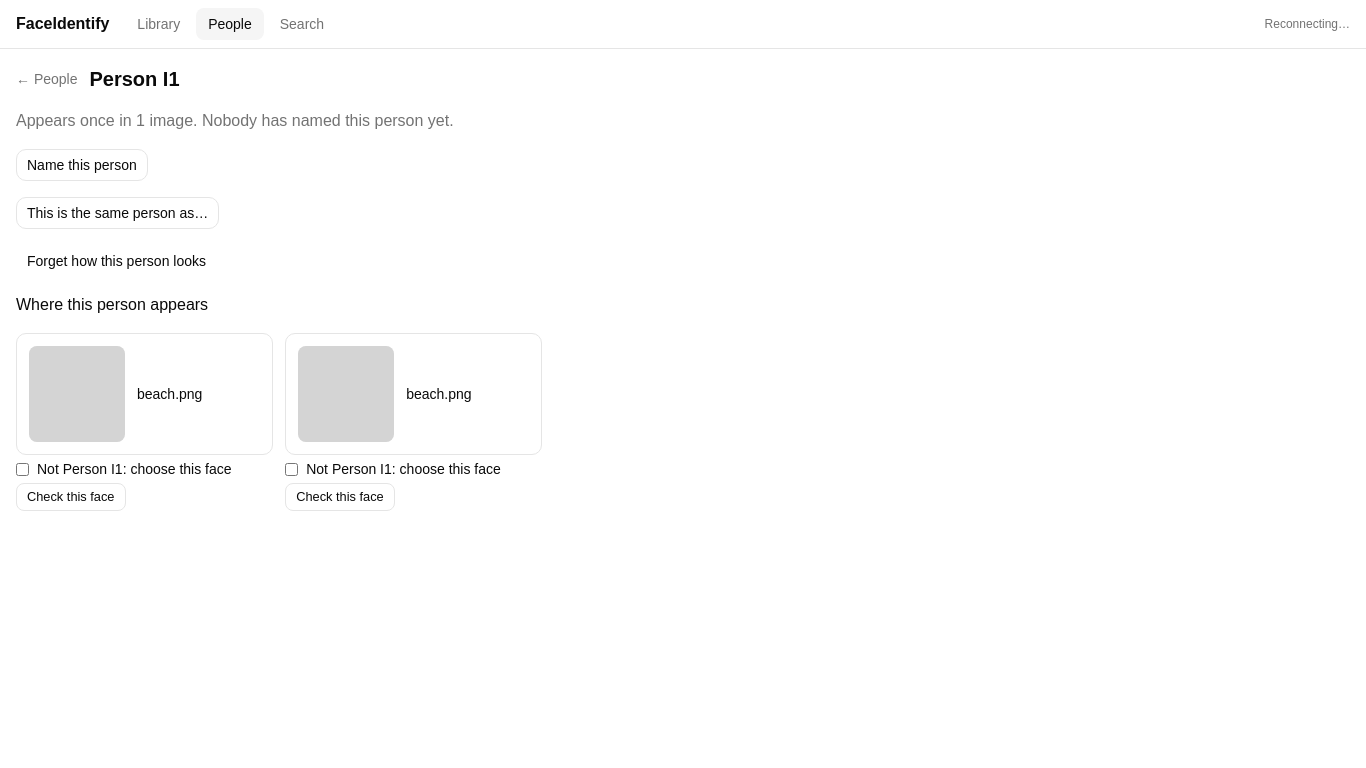
merging a person into another › cannot merge until someone is chosen, and can be cancelled
This screenshot has width=1366, height=768.
Click the button "This is the same person as…" at point(118, 213), box [16, 197, 219, 229]
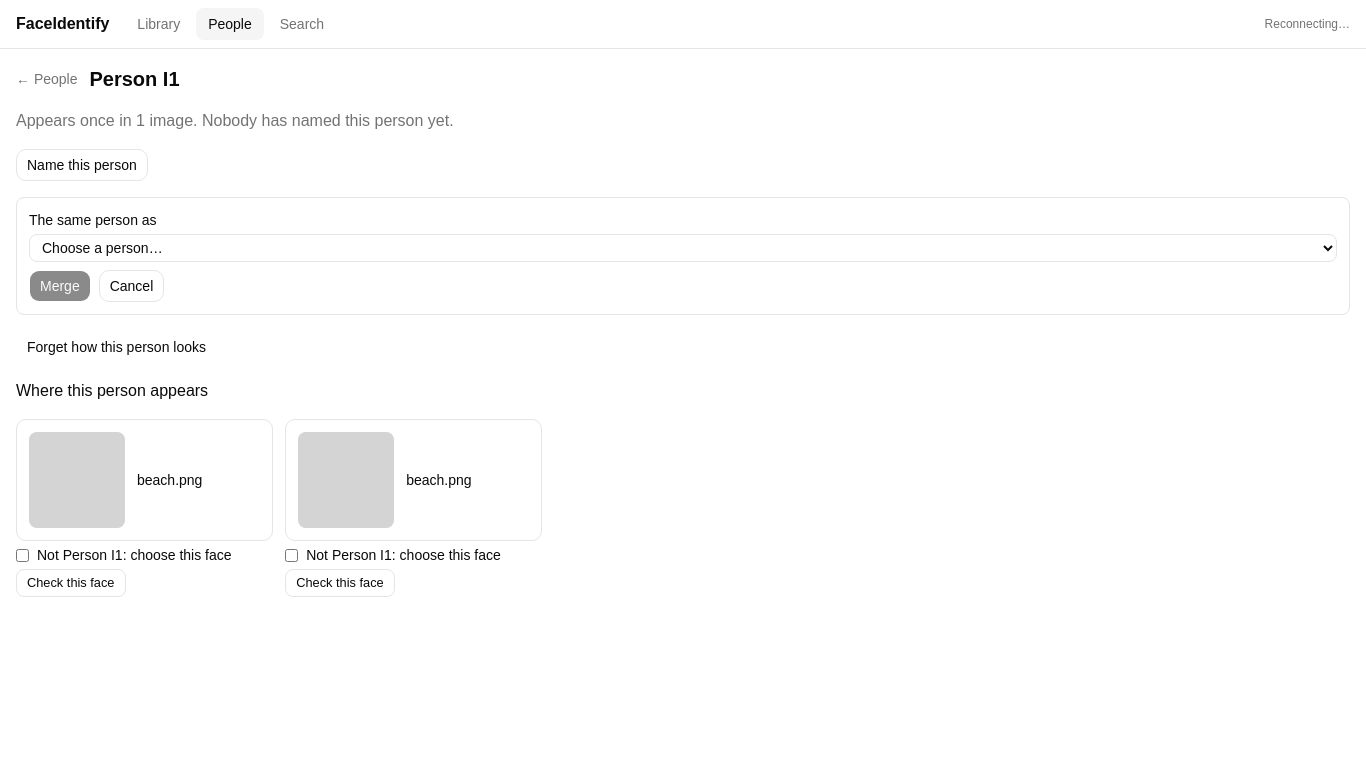
Expected: the button "Merge" is disabled, [29, 270, 91, 302]
Click the button "Cancel" at point(132, 286), box [99, 270, 164, 302]
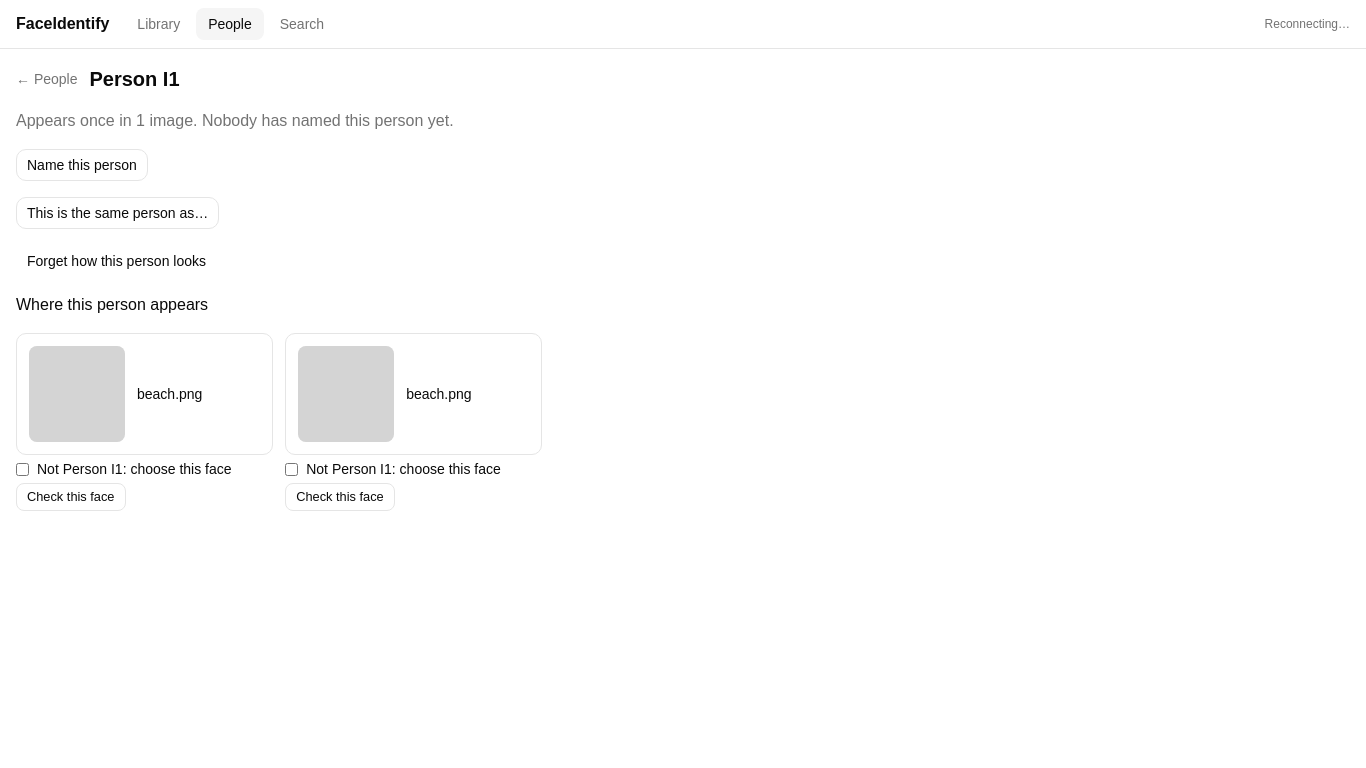
Expected: the button "This is the same person as…" is shown, [16, 197, 219, 229]
